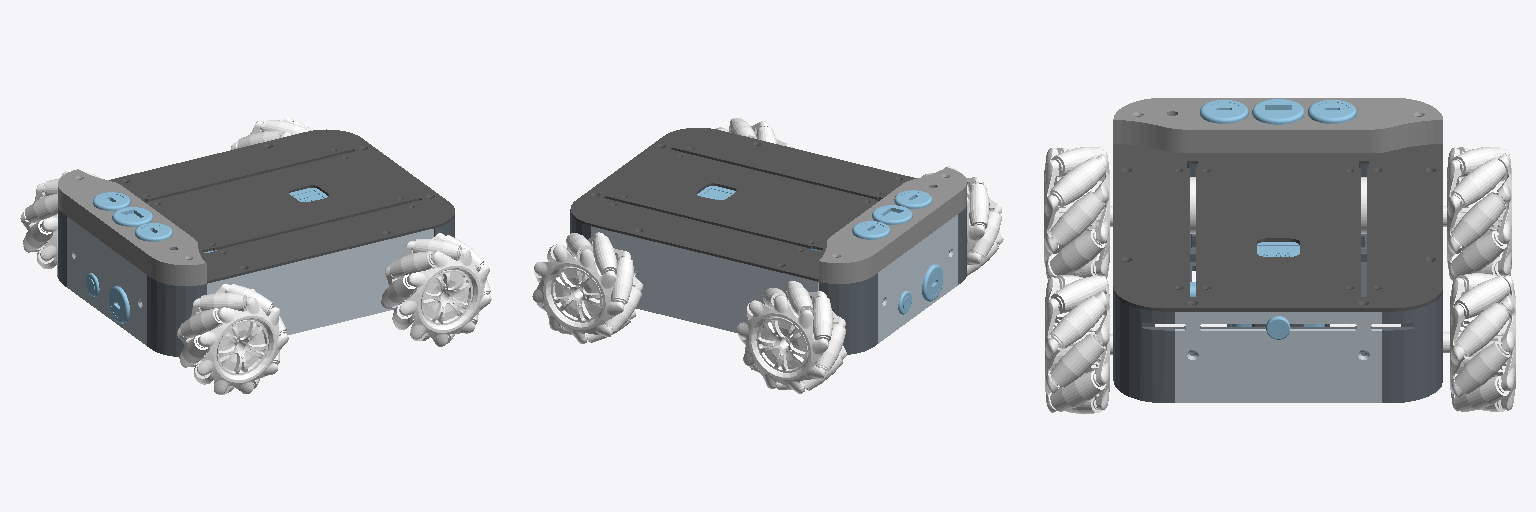
URDF robot description (edubot-onshape):
<?xml version="1.0" ?>
<!-- Generated using onshape-to-robot -->
<!-- Onshape https://cad.onshape.com/documents/244f5ecfaccb481348bd4c8c/w/26ba82ba5ad81d26c481a664/e/06b598d0d8b4099a0f4d1c8c -->
<robot name="edubot-onshape">
  <!-- Link base_link -->
  <link name="base_link">
    <inertial>
      <origin xyz="0.00354865 0.00137903 0.0172313" rpy="0 0 0"/>
      <mass value="0.421125"/>
      <inertia ixx="0.00186809" ixy="4.25933e-06" ixz="-9.50638e-07" iyy="0.00330506" iyz="9.2659e-06" izz="0.0049031"/>
    </inertial>
    <!-- Part rear_plate -->
    <visual>
      <origin xyz="0.0004 -9.11144e-05 -0" rpy="0 -0 1.5708"/>
      <geometry>
        <mesh filename="package://edubot_description/assets/rear_plate.stl"/>
      </geometry>
      <material name="rear_plate_material">
        <color rgba="0.811765 0.858824 0.898039 1"/>
      </material>
    </visual>
    <collision>
      <origin xyz="0.0004 -9.11144e-05 -0" rpy="0 -0 1.5708"/>
      <geometry>
        <mesh filename="package://edubot_description/assets/rear_plate.stl"/>
      </geometry>
    </collision>
    <!-- Part usb_c_female -->
    <visual>
      <origin xyz="-0.104851 -0.0310834 0.0539448" rpy="-1.5708 -0 0"/>
      <geometry>
        <mesh filename="package://edubot_description/assets/usb_c_female.stl"/>
      </geometry>
      <material name="usb_c_female_material">
        <color rgba="0.615686 0.811765 0.929412 1"/>
      </material>
    </visual>
    <collision>
      <origin xyz="-0.104851 -0.0310834 0.0539448" rpy="-1.5708 -0 0"/>
      <geometry>
        <mesh filename="package://edubot_description/assets/usb_c_female.stl"/>
      </geometry>
    </collision>
    <!-- Part upper_plate -->
    <visual>
      <origin xyz="0.0004 -7.48745e-05 0" rpy="0 -0 1.5708"/>
      <geometry>
        <mesh filename="package://edubot_description/assets/upper_plate.stl"/>
      </geometry>
      <material name="upper_plate_material">
        <color rgba="0.4 0.4 0.4 1"/>
      </material>
    </visual>
    <collision>
      <origin xyz="0.0004 -7.48745e-05 0" rpy="0 -0 1.5708"/>
      <geometry>
        <mesh filename="package://edubot_description/assets/upper_plate.stl"/>
      </geometry>
    </collision>
    <!-- Part usb_c_female_2 -->
    <visual>
      <origin xyz="-0.1056 -0.0200911 0.018" rpy="1.5708 1.5708 0"/>
      <geometry>
        <mesh filename="package://edubot_description/assets/usb_c_female.stl"/>
      </geometry>
      <material name="usb_c_female_2_material">
        <color rgba="0.615686 0.811765 0.929412 1"/>
      </material>
    </visual>
    <collision>
      <origin xyz="-0.1056 -0.0200911 0.018" rpy="1.5708 1.5708 0"/>
      <geometry>
        <mesh filename="package://edubot_description/assets/usb_c_female.stl"/>
      </geometry>
    </collision>
    <!-- Part switch -->
    <visual>
      <origin xyz="-0.0906 0.0199089 0.018" rpy="3.14159 -0 1.5708"/>
      <geometry>
        <mesh filename="package://edubot_description/assets/switch.stl"/>
      </geometry>
      <material name="switch_material">
        <color rgba="0.615686 0.811765 0.929412 1"/>
      </material>
    </visual>
    <collision>
      <origin xyz="-0.0906 0.0199089 0.018" rpy="3.14159 -0 1.5708"/>
      <geometry>
        <mesh filename="package://edubot_description/assets/switch.stl"/>
      </geometry>
    </collision>
    <!-- Part front_plate -->
    <visual>
      <origin xyz="0.0004 -7.48745e-05 0" rpy="0 -0 1.5708"/>
      <geometry>
        <mesh filename="package://edubot_description/assets/front_plate.stl"/>
      </geometry>
      <material name="front_plate_material">
        <color rgba="0.811765 0.858824 0.898039 1"/>
      </material>
    </visual>
    <collision>
      <origin xyz="0.0004 -7.48745e-05 0" rpy="0 -0 1.5708"/>
      <geometry>
        <mesh filename="package://edubot_description/assets/front_plate.stl"/>
      </geometry>
    </collision>
    <!-- Part usb_c_female_3 -->
    <visual>
      <origin xyz="-0.104851 0.0309166 0.0539448" rpy="-1.5708 0 -3.14159"/>
      <geometry>
        <mesh filename="package://edubot_description/assets/usb_c_female.stl"/>
      </geometry>
      <material name="usb_c_female_3_material">
        <color rgba="0.615686 0.811765 0.929412 1"/>
      </material>
    </visual>
    <collision>
      <origin xyz="-0.104851 0.0309166 0.0539448" rpy="-1.5708 0 -3.14159"/>
      <geometry>
        <mesh filename="package://edubot_description/assets/usb_c_female.stl"/>
      </geometry>
    </collision>
    <!-- Part axle -->
    <visual>
      <origin xyz="-0.190292 -0.0120527 0.018986" rpy="0 -0 -3.14159"/>
      <geometry>
        <mesh filename="package://edubot_description/assets/axle.stl"/>
      </geometry>
      <material name="axle_material">
        <color rgba="1 1 1 1"/>
      </material>
    </visual>
    <collision>
      <origin xyz="-0.190292 -0.0120527 0.018986" rpy="0 -0 -3.14159"/>
      <geometry>
        <mesh filename="package://edubot_description/assets/axle.stl"/>
      </geometry>
    </collision>
    <!-- Part base_link -->
    <visual>
      <origin xyz="0.0004 -7.48745e-05 0" rpy="0 -0 1.5708"/>
      <geometry>
        <mesh filename="package://edubot_description/assets/base_link.stl"/>
      </geometry>
      <material name="base_link_material">
        <color rgba="0.439216 0.47451 0.501961 1"/>
      </material>
    </visual>
    <collision>
      <origin xyz="0.0004 -7.48745e-05 0" rpy="0 -0 1.5708"/>
      <geometry>
        <mesh filename="package://edubot_description/assets/base_link.stl"/>
      </geometry>
    </collision>
    <!-- Part axle_2 -->
    <visual>
      <origin xyz="-0.0162922 -0.0120527 0.018986" rpy="0 -0 -3.14159"/>
      <geometry>
        <mesh filename="package://edubot_description/assets/axle.stl"/>
      </geometry>
      <material name="axle_2_material">
        <color rgba="1 1 1 1"/>
      </material>
    </visual>
    <collision>
      <origin xyz="-0.0162922 -0.0120527 0.018986" rpy="0 -0 -3.14159"/>
      <geometry>
        <mesh filename="package://edubot_description/assets/axle.stl"/>
      </geometry>
    </collision>
    <!-- Part battery -->
    <visual>
      <origin xyz="0.000184983 -0.0270749 0.03125" rpy="-3.14159 1.5708 0"/>
      <geometry>
        <mesh filename="package://edubot_description/assets/battery.stl"/>
      </geometry>
      <material name="battery_material">
        <color rgba="0.615686 0.811765 0.929412 1"/>
      </material>
    </visual>
    <collision>
      <origin xyz="0.000184983 -0.0270749 0.03125" rpy="-3.14159 1.5708 0"/>
      <geometry>
        <mesh filename="package://edubot_description/assets/battery.stl"/>
      </geometry>
    </collision>
    <!-- Part left_plate -->
    <visual>
      <origin xyz="0.0004 -7.48745e-05 0" rpy="0 -0 1.5708"/>
      <geometry>
        <mesh filename="package://edubot_description/assets/left_plate.stl"/>
      </geometry>
      <material name="left_plate_material">
        <color rgba="0.811765 0.858824 0.898039 1"/>
      </material>
    </visual>
    <collision>
      <origin xyz="0.0004 -7.48745e-05 0" rpy="0 -0 1.5708"/>
      <geometry>
        <mesh filename="package://edubot_description/assets/left_plate.stl"/>
      </geometry>
    </collision>
    <!-- Part eth_plug -->
    <visual>
      <origin xyz="-0.104851 -8.34454e-05 0.0499448" rpy="-1.5708 -0 1.5708"/>
      <geometry>
        <mesh filename="package://edubot_description/assets/eth_plug.stl"/>
      </geometry>
      <material name="eth_plug_material">
        <color rgba="0.615686 0.811765 0.929412 1"/>
      </material>
    </visual>
    <collision>
      <origin xyz="-0.104851 -8.34454e-05 0.0499448" rpy="-1.5708 -0 1.5708"/>
      <geometry>
        <mesh filename="package://edubot_description/assets/eth_plug.stl"/>
      </geometry>
    </collision>
    <!-- Part right_plate -->
    <visual>
      <origin xyz="0.0004 -7.48745e-05 3.35123e-06" rpy="0 -0 1.5708"/>
      <geometry>
        <mesh filename="package://edubot_description/assets/right_plate.stl"/>
      </geometry>
      <material name="right_plate_material">
        <color rgba="0.811765 0.858824 0.898039 1"/>
      </material>
    </visual>
    <collision>
      <origin xyz="0.0004 -7.48745e-05 3.35123e-06" rpy="0 -0 1.5708"/>
      <geometry>
        <mesh filename="package://edubot_description/assets/right_plate.stl"/>
      </geometry>
    </collision>
    <!-- Part cam_holder -->
    <visual>
      <origin xyz="0.000399998 -7.48745e-05 -0.0003" rpy="0 -0 1.5708"/>
      <geometry>
        <mesh filename="package://edubot_description/assets/cam_holder.stl"/>
      </geometry>
      <material name="cam_holder_material">
        <color rgba="0.615686 0.811765 0.929412 1"/>
      </material>
    </visual>
    <collision>
      <origin xyz="0.000399998 -7.48745e-05 -0.0003" rpy="0 -0 1.5708"/>
      <geometry>
        <mesh filename="package://edubot_description/assets/cam_holder.stl"/>
      </geometry>
    </collision>
    <!-- Part cam -->
    <visual>
      <origin xyz="0.1264 -7.48745e-05 0.048" rpy="3.14159 -0 -1.5708"/>
      <geometry>
        <mesh filename="package://edubot_description/assets/cam.stl"/>
      </geometry>
      <material name="cam_material">
        <color rgba="0.615686 0.811765 0.929412 1"/>
      </material>
    </visual>
    <collision>
      <origin xyz="0.1264 -7.48745e-05 0.048" rpy="3.14159 -0 -1.5708"/>
      <geometry>
        <mesh filename="package://edubot_description/assets/cam.stl"/>
      </geometry>
    </collision>
    <!-- Part axle_3 -->
    <visual>
      <origin xyz="0.0170922 0.011903 0.018986" rpy="0 0 0"/>
      <geometry>
        <mesh filename="package://edubot_description/assets/axle.stl"/>
      </geometry>
      <material name="axle_3_material">
        <color rgba="1 1 1 1"/>
      </material>
    </visual>
    <collision>
      <origin xyz="0.0170922 0.011903 0.018986" rpy="0 0 0"/>
      <geometry>
        <mesh filename="package://edubot_description/assets/axle.stl"/>
      </geometry>
    </collision>
    <!-- Part plug_mount -->
    <visual>
      <origin xyz="0.000399038 -8.34454e-05 -5.51718e-05" rpy="0 -0 1.5708"/>
      <geometry>
        <mesh filename="package://edubot_description/assets/plug_mount.stl"/>
      </geometry>
      <material name="plug_mount_material">
        <color rgba="0.647059 0.647059 0.647059 1"/>
      </material>
    </visual>
    <collision>
      <origin xyz="0.000399038 -8.34454e-05 -5.51718e-05" rpy="0 -0 1.5708"/>
      <geometry>
        <mesh filename="package://edubot_description/assets/plug_mount.stl"/>
      </geometry>
    </collision>
    <!-- Part axle_4 -->
    <visual>
      <origin xyz="0.19109 0.011903 0.018986" rpy="0 -0 0"/>
      <geometry>
        <mesh filename="package://edubot_description/assets/axle.stl"/>
      </geometry>
      <material name="axle_4_material">
        <color rgba="1 1 1 1"/>
      </material>
    </visual>
    <collision>
      <origin xyz="0.19109 0.011903 0.018986" rpy="0 -0 0"/>
      <geometry>
        <mesh filename="package://edubot_description/assets/axle.stl"/>
      </geometry>
    </collision>
  </link>
  <!-- Link omni_wheel_fl -->
  <link name="omni_wheel_fl">
    <inertial>
      <origin xyz="0 0 0" rpy="0 0 0"/>
      <mass value="1e-09"/>
      <inertia ixx="1e-09" ixy="0" ixz="0" iyy="1e-09" iyz="0" izz="1e-09"/>
    </inertial>
    <!-- Part omni_wheel_fl -->
    <visual>
      <origin xyz="0.0859713 -0.15763 0.297561" rpy="-1.5708 0 -0"/>
      <geometry>
        <mesh filename="package://edubot_description/assets/omni_wheel_fl.stl"/>
      </geometry>
      <material name="omni_wheel_fl_material">
        <color rgba="1 1 1 1"/>
      </material>
    </visual>
    <collision>
      <origin xyz="0.0859713 -0.15763 0.297561" rpy="-1.5708 0 -0"/>
      <geometry>
        <mesh filename="package://edubot_description/assets/omni_wheel_fl.stl"/>
      </geometry>
    </collision>
  </link>
  <!-- Joint from base_link to omni_wheel_fl -->
  <joint name="wheel_fl" type="continuous">
    <origin xyz="0.0874013 0.0924166 0.0196934" rpy="1.5708 -1.53297 -0"/>
    <parent link="base_link"/>
    <child link="omni_wheel_fl"/>
    <axis xyz="0 0 -1"/>
    <limit effort="10" velocity="10"/>
  </joint>
  <!-- Link omni_wheel_rl -->
  <link name="omni_wheel_rl">
    <inertial>
      <origin xyz="0 0 0" rpy="0 0 0"/>
      <mass value="1e-09"/>
      <inertia ixx="1e-09" ixy="0" ixz="0" iyy="1e-09" iyz="0" izz="1e-09"/>
    </inertial>
    <!-- Part omni_wheel_rl -->
    <visual>
      <origin xyz="-0.106119 0.157984 -0.140943" rpy="1.5708 0 0"/>
      <geometry>
        <mesh filename="package://edubot_description/assets/omni_wheel_rl.stl"/>
      </geometry>
      <material name="omni_wheel_rl_material">
        <color rgba="1 1 1 1"/>
      </material>
    </visual>
    <collision>
      <origin xyz="-0.106119 0.157984 -0.140943" rpy="1.5708 0 0"/>
      <geometry>
        <mesh filename="package://edubot_description/assets/omni_wheel_rl.stl"/>
      </geometry>
    </collision>
  </link>
  <!-- Joint from base_link to omni_wheel_rl -->
  <joint name="wheel_rl" type="continuous">
    <origin xyz="-0.086599 0.0896399 0.0184759" rpy="-1.5708 -0 -3.14159"/>
    <parent link="base_link"/>
    <child link="omni_wheel_rl"/>
    <axis xyz="0 0 -1"/>
    <limit effort="10" velocity="10"/>
  </joint>
  <!-- Link omni_wheel_rr -->
  <link name="omni_wheel_rr">
    <inertial>
      <origin xyz="0 0 0" rpy="0 0 0"/>
      <mass value="1e-09"/>
      <inertia ixx="1e-09" ixy="0" ixz="0" iyy="1e-09" iyz="0" izz="1e-09"/>
    </inertial>
    <!-- Part omni_wheel_rr -->
    <visual>
      <origin xyz="0.0859713 0.15763 -0.140943" rpy="1.5708 0 0"/>
      <geometry>
        <mesh filename="package://edubot_description/assets/omni_wheel_rr.stl"/>
      </geometry>
      <material name="omni_wheel_rr_material">
        <color rgba="1 1 1 1"/>
      </material>
    </visual>
    <collision>
      <origin xyz="0.0859713 0.15763 -0.140943" rpy="1.5708 0 0"/>
      <geometry>
        <mesh filename="package://edubot_description/assets/omni_wheel_rr.stl"/>
      </geometry>
    </collision>
  </link>
  <!-- Joint from base_link to omni_wheel_rr -->
  <joint name="wheel_rr" type="continuous">
    <origin xyz="-0.086601 -0.0897897 0.0184759" rpy="1.5708 -0 -3.14159"/>
    <parent link="base_link"/>
    <child link="omni_wheel_rr"/>
    <axis xyz="0 0 1"/>
    <limit effort="10" velocity="10"/>
  </joint>
  <!-- Link omni_wheel_fr -->
  <link name="omni_wheel_fr">
    <inertial>
      <origin xyz="0 0 0" rpy="0 0 0"/>
      <mass value="1e-09"/>
      <inertia ixx="1e-09" ixy="0" ixz="0" iyy="1e-09" iyz="0" izz="1e-09"/>
    </inertial>
    <!-- Part omni_wheel_fr -->
    <visual>
      <origin xyz="-0.106119 -0.157274 0.296978" rpy="-1.5708 -0 -0"/>
      <geometry>
        <mesh filename="package://edubot_description/assets/omni_wheel_fr.stl"/>
      </geometry>
      <material name="omni_wheel_fr_material">
        <color rgba="1 1 1 1"/>
      </material>
    </visual>
    <collision>
      <origin xyz="-0.106119 -0.157274 0.296978" rpy="-1.5708 -0 -0"/>
      <geometry>
        <mesh filename="package://edubot_description/assets/omni_wheel_fr.stl"/>
      </geometry>
    </collision>
  </link>
  <!-- Joint from base_link to omni_wheel_fr -->
  <joint name="wheel_fr" type="continuous">
    <origin xyz="0.087399 -0.0897897 0.0184759" rpy="-1.5708 -1.5708 0"/>
    <parent link="base_link"/>
    <child link="omni_wheel_fr"/>
    <axis xyz="0 0 1"/>
    <limit effort="10" velocity="10"/>
  </joint>

  <!-- IMU: BNO085 mounted on the Raspberry Pi 5 (top centre of robot).
       Adjust xyz to match the actual physical position of the chip on the board.
       x=0 y=0 = robot centre, z=0.065 = approx top of upper plate.
       rpy=0 0 0 assumes the chip's X-axis points forward (same as base_link). -->
  <link name="imu_link"/>
  <joint name="imu_joint" type="fixed">
    <origin xyz="0.0 0.0 0.065" rpy="0 0 0"/>
    <parent link="base_link"/>
    <child link="imu_link"/>
  </joint>
</robot>

--- What the picture shows (computed from the rendered views, not written in the file) ---
Views: 3 orthographic renders of the robot side by side, from view 1: azimuth 30°, elevation 25°; view 2: azimuth 150°, elevation 25°; view 3: azimuth 270°, elevation 25°.
Robot: edubot-onshape — 6 links, 5 joints (4 continuous, 1 fixed); root link base_link; default pose: all joints at 0.
Visible links, largest first — view 1: base_link, omni_wheel_fr, omni_wheel_rr, omni_wheel_rl, omni_wheel_fl; view 2: base_link, omni_wheel_rl, omni_wheel_fl, omni_wheel_rr, omni_wheel_fr; view 3: base_link, omni_wheel_fl, omni_wheel_fr, omni_wheel_rr, omni_wheel_rl.
Link boxes in pixels (x1,y1,x2,y2): base_link: (58, 129, 454, 356); omni_wheel_fr: (381, 233, 491, 346); omni_wheel_rr: (177, 284, 288, 394); omni_wheel_rl: (20, 169, 101, 276); omni_wheel_fl: (231, 117, 311, 149); base_link: (570, 128, 966, 354); omni_wheel_rl: (737, 281, 846, 393); omni_wheel_fl: (532, 232, 642, 343); omni_wheel_rr: (922, 166, 1003, 275); omni_wheel_fr: (716, 118, 792, 147); base_link: (1113, 98, 1442, 402); omni_wheel_fl: (1443, 273, 1515, 411); omni_wheel_fr: (1045, 275, 1112, 413); omni_wheel_rr: (1044, 147, 1112, 279); omni_wheel_rl: (1443, 147, 1511, 280).
Bounding box of the posed robot: 0.2595 × 0.27 × 0.0995 m (x, y, z).
23 mesh visuals loaded from 18 distinct referenced files (18 binary STL).
